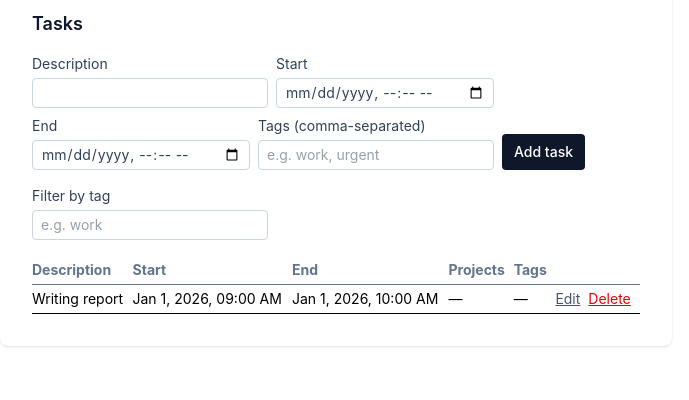
TaskList › shows an error when deleting fails
The image size is (689, 400).
Expected: the text "Writing report" is shown, [32, 284, 132, 314]
Click the button "Delete".
click(610, 299)  # box [588, 289, 631, 309]
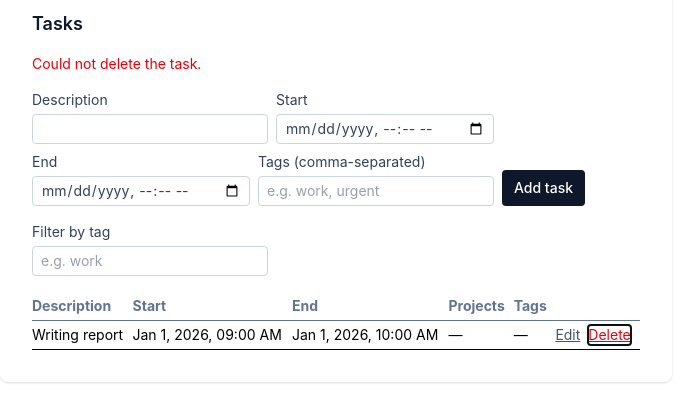
Now the text "Could not delete the task." is shown, box [32, 55, 201, 72]
